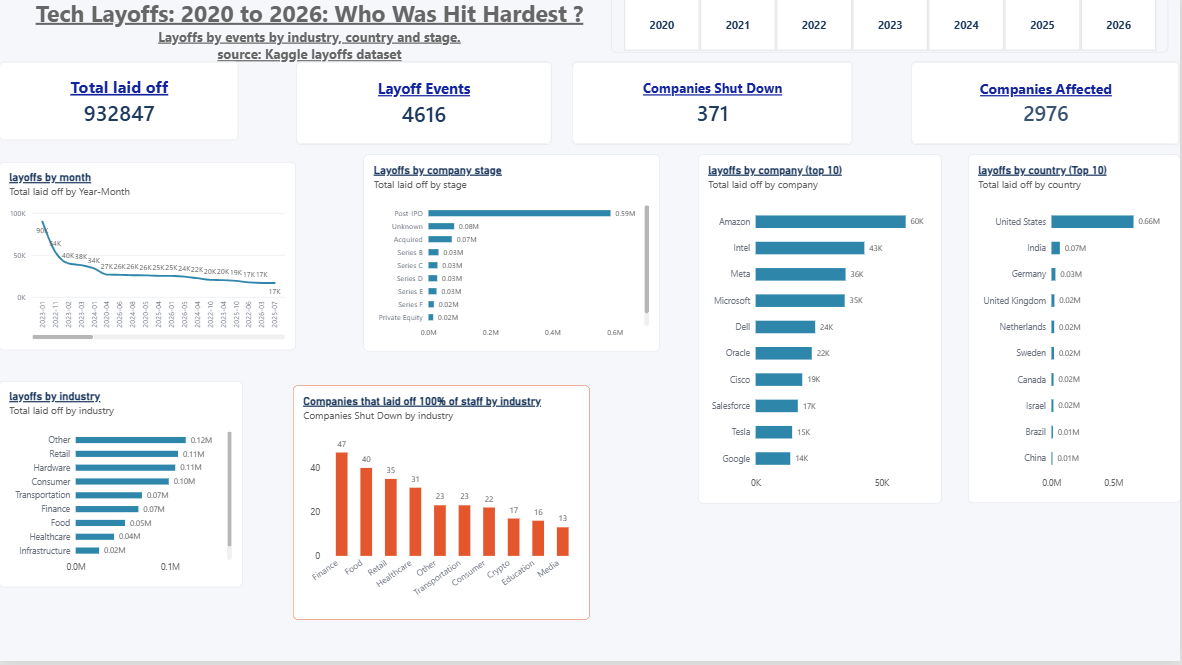

What the dashboard file says about the page in this screenshot:
{"tool":"powerbi","page":{"name":"Overview.","canvas":[1920,1080],"ordinal":0},"visuals":[{"type":"textbox","box":[9.8,0,990.2,125.5],"z":0},{"type":"cardVisual","fields":{"Data":["layoffs (1).Total laid off"]},"box":[0,105.9,390.2,129.4],"z":1},{"type":"cardVisual","fields":{"Data":["layoffs (1).Layoff Events"]},"box":[482.4,105.9,415.7,135.3],"z":2},{"type":"cardVisual","fields":{"Data":["layoffs (1).Companies Shut Down"]},"box":[931.4,105.9,456.9,135.3],"z":3},{"type":"cardVisual","fields":{"Data":["layoffs (1).Companies Affected"]},"box":[1482.4,105.9,437.3,135.3],"z":4},{"type":"lineChart","title":"layoffs by month","fields":{"Category":["Dim Date.Year-Month"],"Y":["layoffs (1).Total laid off"]},"box":[0,268.6,482.4,305.9],"z":5},{"type":"slicer","fields":{"Values":["Dim Date.Year"]},"box":[996.1,0,905.9,90.2],"z":6},{"type":"clusteredBarChart","title":"layoffs by industry","fields":{"Category":["layoffs (1).industry"],"Y":["layoffs (1).Total laid off"]},"box":[0,625.5,396.1,335.3],"z":7},{"type":"clusteredBarChart","title":"layoffs by company (top 10)","fields":{"Category":["layoffs (1).company"],"Y":["layoffs (1).Total laid off"]},"box":[1137.3,254.9,396,567],"z":8},{"type":"clusteredBarChart","title":"layoffs by country (Top 10)","fields":{"Category":["layoffs (1).country"],"Y":["layoffs (1).Total laid off"]},"box":[1574.5,254.9,345.1,566.7],"z":9},{"type":"clusteredBarChart","title":"Layoffs by company stage","fields":{"Category":["layoffs (1).stage"],"Y":["layoffs (1).Total laid off"]},"box":[592.2,254.9,482,320],"z":10},{"type":"clusteredColumnChart","title":"Companies that laid off 100% of staff by industry","fields":{"Category":["layoffs (1).industry"],"Y":["layoffs (1).Companies Shut Down"]},"box":[478.4,631.4,482.4,380.4],"z":11}]}

Visuals, with their boxes in screenshot pixels (x1, y1, x2, y2), scaled from the page's 1920x1080 canvas onto the 1182x665 screenshot:
textbox: 6,0,616,77
cardVisual - layoffs (1).Total laid off: 0,65,240,145
cardVisual - layoffs (1).Layoff Events: 297,65,553,149
cardVisual - layoffs (1).Companies Shut Down: 573,65,855,149
cardVisual - layoffs (1).Companies Affected: 913,65,1181,149
"layoffs by month" lineChart: 0,165,297,354
slicer - Dim Date.Year: 613,0,1171,56
"layoffs by industry" clusteredBarChart: 0,385,244,592
"layoffs by company (top 10)" clusteredBarChart: 700,157,944,506
"layoffs by country (Top 10)" clusteredBarChart: 969,157,1181,506
"Layoffs by company stage" clusteredBarChart: 365,157,661,354
"Companies that laid off 100% of staff by industry" clusteredColumnChart: 295,389,591,623
